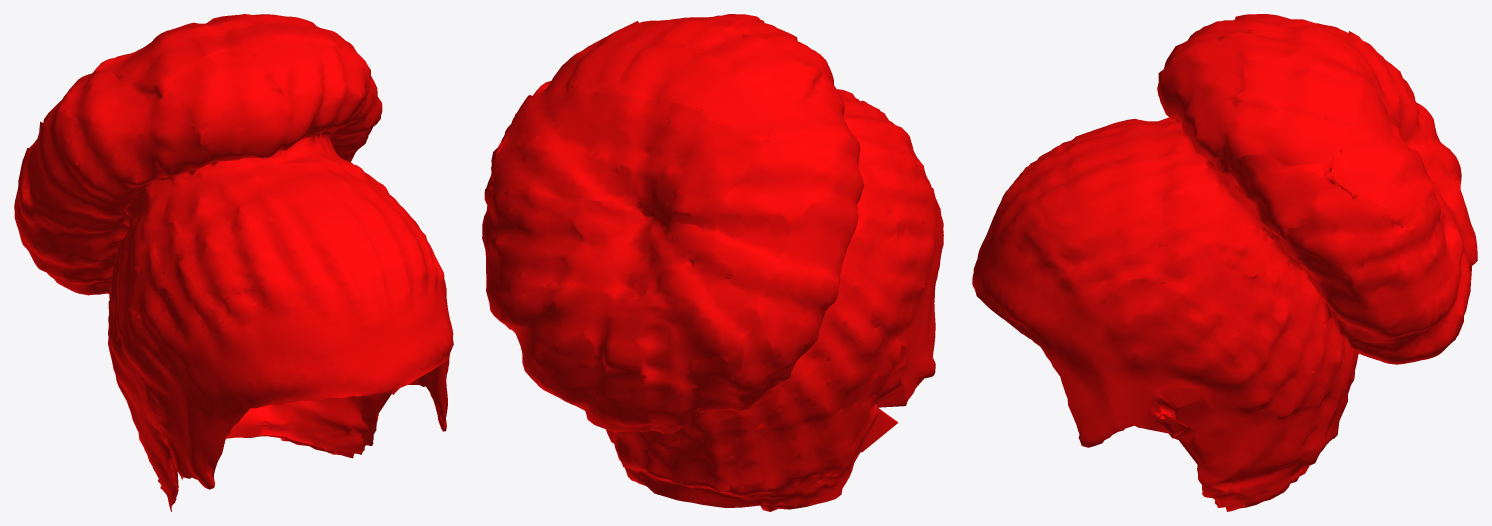
Rendered from elvs_braid_bun_M.glb.
3 views of the same model, side by side, from view 1: azimuth 30°, elevation 25°; view 2: azimuth 150°, elevation 25°; view 3: azimuth 270°, elevation 25° (orthographic). The views are drawn at different scales.
Bounding box in the file's own units: 0.2074 × 0.2608 × 0.2768.
Materials: 1 (1 with a texture image).
